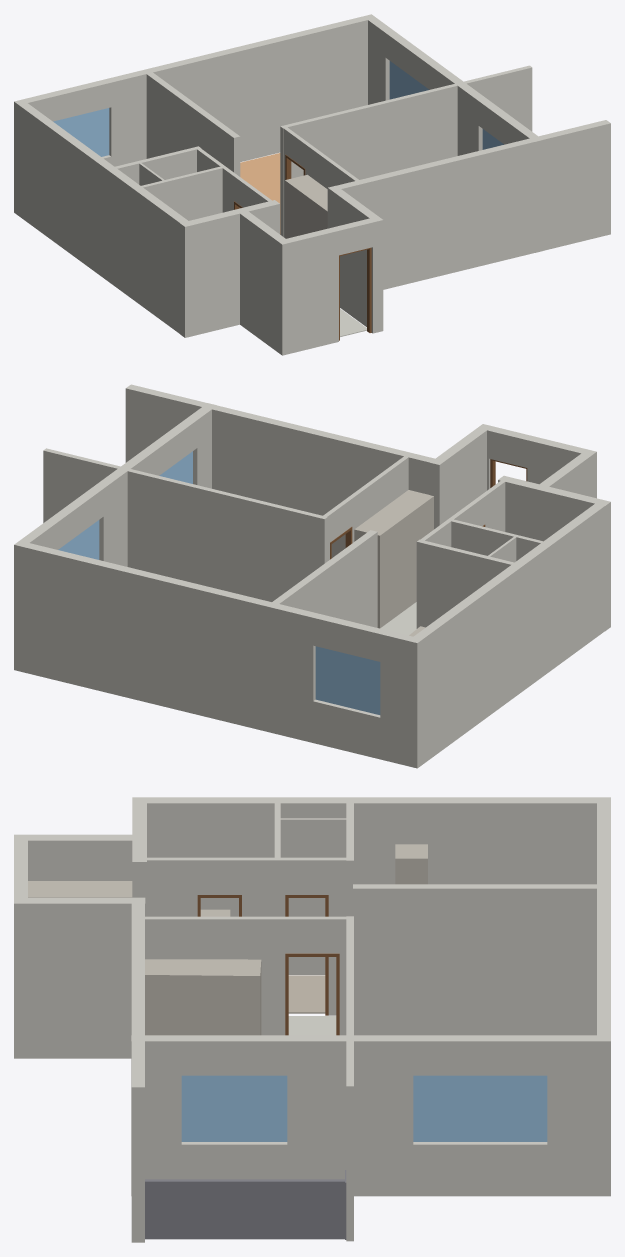
3 views of the same model, one above another, from view 1: azimuth 30°, elevation 25°; view 2: azimuth 150°, elevation 25°; view 3: azimuth 270°, elevation 25° (orthographic). The views are drawn at different scales.
Parts seen in each view (by area): view 1: walls, furniture_2_closet, window_2, floor_1_Living_Room, window_3, door_4; view 2: walls, furniture_2_closet, window_2, window_3, floor_2_Undefined, window_0; view 3: walls, railings, window_3, furniture_3_closet, window_0, furniture_4_closet, floor_4_Storage, furniture_0_closet, floor_2_Undefined, door_1.
Boxes of the visible parts, bbox=[...] form: walls: bbox=[14, 14, 610, 355]; furniture_2_closet: bbox=[285, 174, 327, 238]; window_2: bbox=[53, 108, 109, 156]; floor_1_Living_Room: bbox=[240, 153, 280, 234]; window_3: bbox=[389, 61, 429, 99]; door_4: bbox=[339, 247, 371, 340]; walls: bbox=[14, 384, 610, 768]; furniture_2_closet: bbox=[354, 490, 433, 628]; window_2: bbox=[315, 646, 380, 714]; window_3: bbox=[58, 520, 99, 559]; floor_2_Undefined: bbox=[380, 602, 416, 635]; window_0: bbox=[159, 451, 192, 483]; walls: bbox=[14, 797, 610, 1242]; railings: bbox=[145, 1170, 346, 1239]; window_3: bbox=[413, 1075, 547, 1141]; furniture_3_closet: bbox=[145, 959, 261, 1035]; window_0: bbox=[181, 1075, 287, 1141]; furniture_4_closet: bbox=[28, 881, 132, 897]; floor_4_Storage: bbox=[288, 975, 325, 1013]; furniture_0_closet: bbox=[395, 844, 427, 884]; floor_2_Undefined: bbox=[288, 1016, 336, 1035]; door_1: bbox=[285, 953, 339, 1035].
Bounding box in the file's own units: 10.83 × 2.72 × 9.41.
